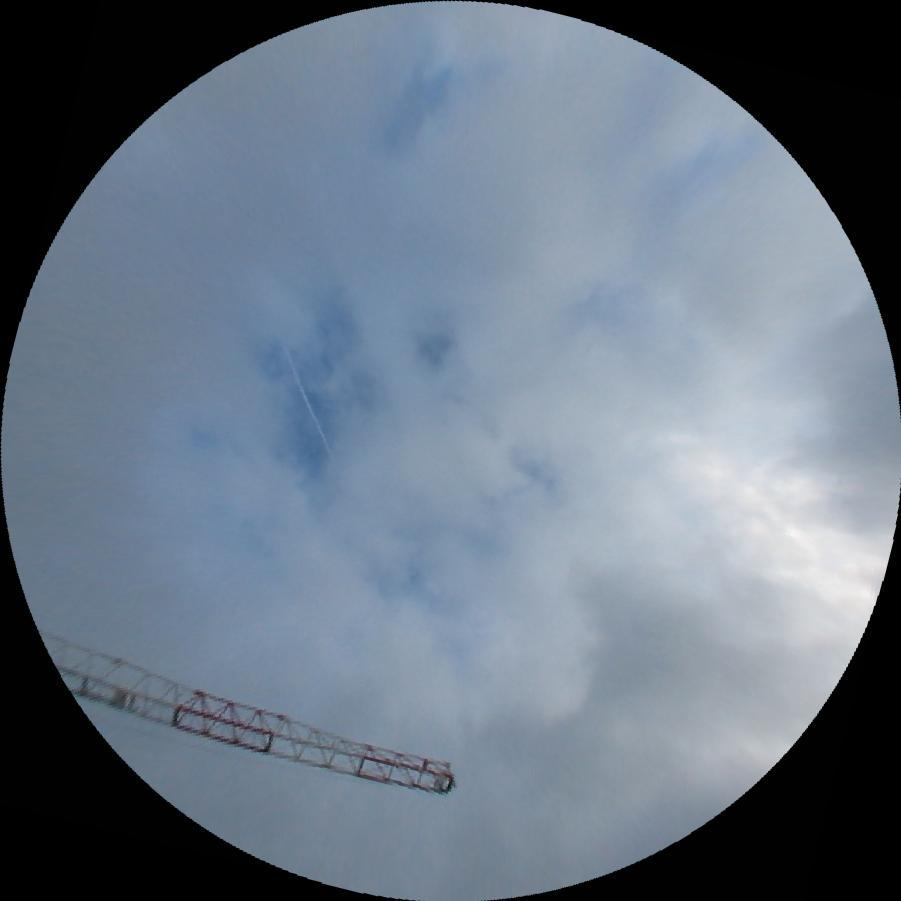contrail young: (280, 346, 331, 454)
